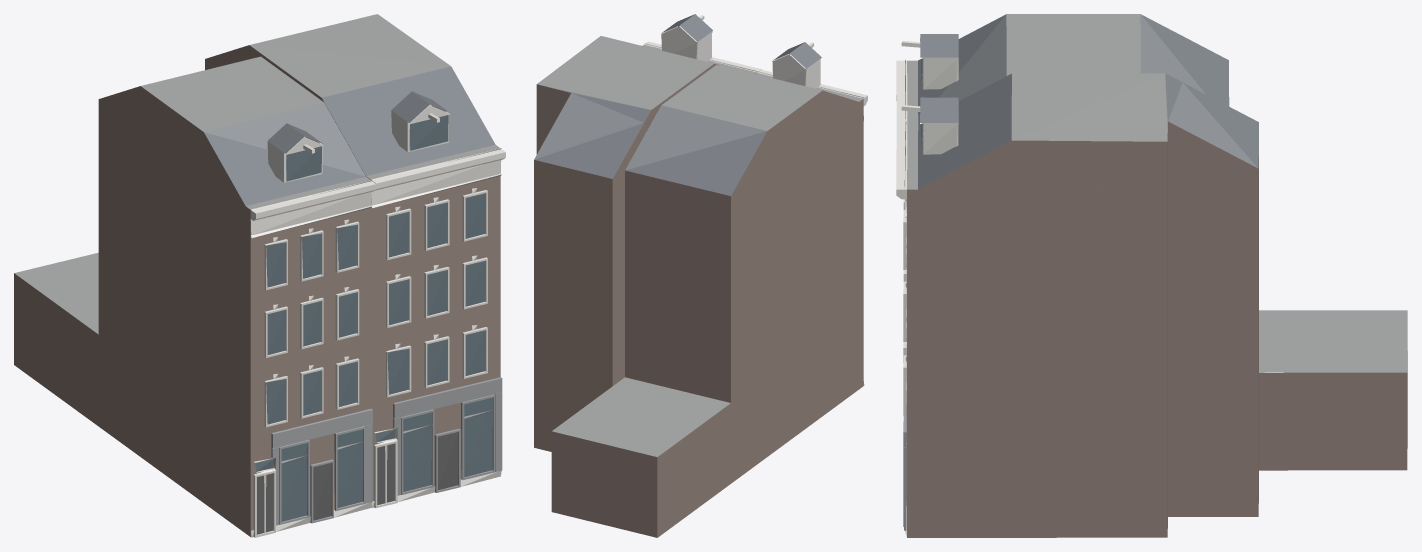
The model's file is chunk-face-wou-32-52-r2.lod2.glb.
3 renders of one model, left to right at view 1: azimuth 30°, elevation 25°; view 2: azimuth 150°, elevation 25°; view 3: azimuth 270°, elevation 25°, orthographic. The views are drawn at different scales.
Visible parts, largest first — view 1: lod2; view 2: lod2; view 3: lod2.
Part boxes in pixels (x1=…): lod2: x1=14, y1=14, x2=505, y2=537; lod2: x1=534, y1=14, x2=867, y2=537; lod2: x1=896, y1=14, x2=1407, y2=537.
Size of the model in its own units: 11.42 by 16.65 by 18.97.
